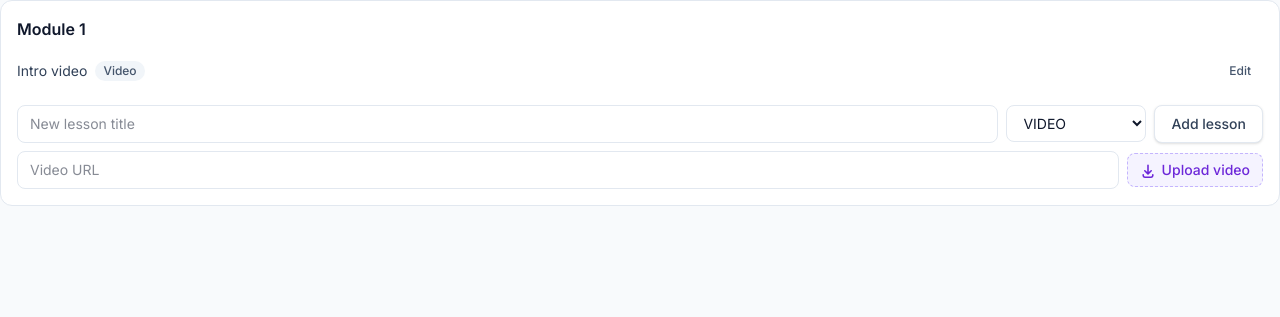
Test: ModuleEditorCard › swaps the row for the edit form when Edit is clicked
The width and height of the screenshot is (1280, 317).
Click the button "Edit" at [1240, 71], box [1217,57,1263,85]
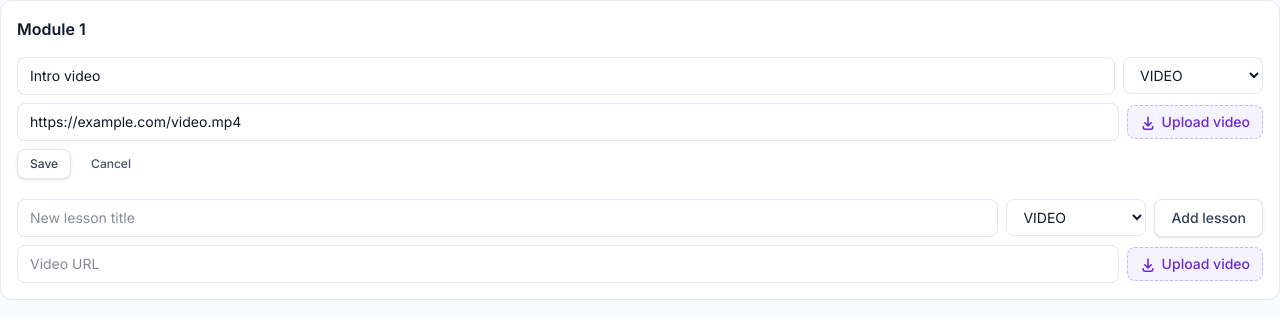
Expected: the field named "Lesson title" holds "Intro video", [17,57,1115,95]
Expected: the button "Save" is shown, [17,149,71,179]
